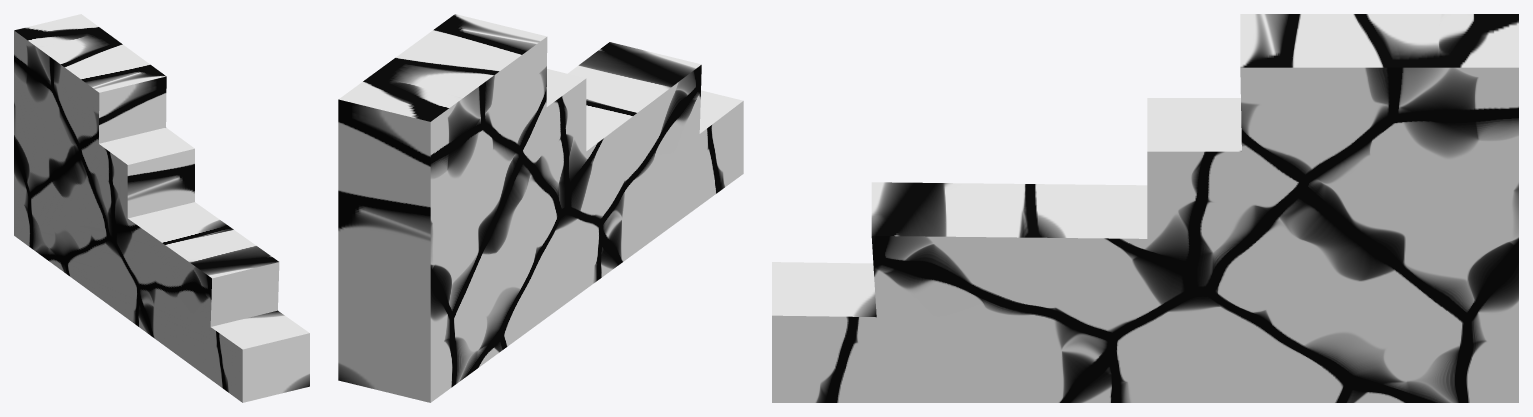
File: SM_Wall_Rubble.fbx
3 views of the same model, side by side, from view 1: azimuth 30°, elevation 25°; view 2: azimuth 150°, elevation 25°; view 3: azimuth 270°, elevation 25° (orthographic). The views are drawn at different scales.
Parts seen in each view (by area): view 1: Cube.002; view 2: Cube.002; view 3: Cube.002.
Boxes of the visible parts, x1=… form: Cube.002: x1=14, y1=14, x2=309, y2=402; Cube.002: x1=338, y1=14, x2=743, y2=402; Cube.002: x1=772, y1=14, x2=1518, y2=402.
Bounding box in the file's own units: 22.87 × 66.67 × 135.
